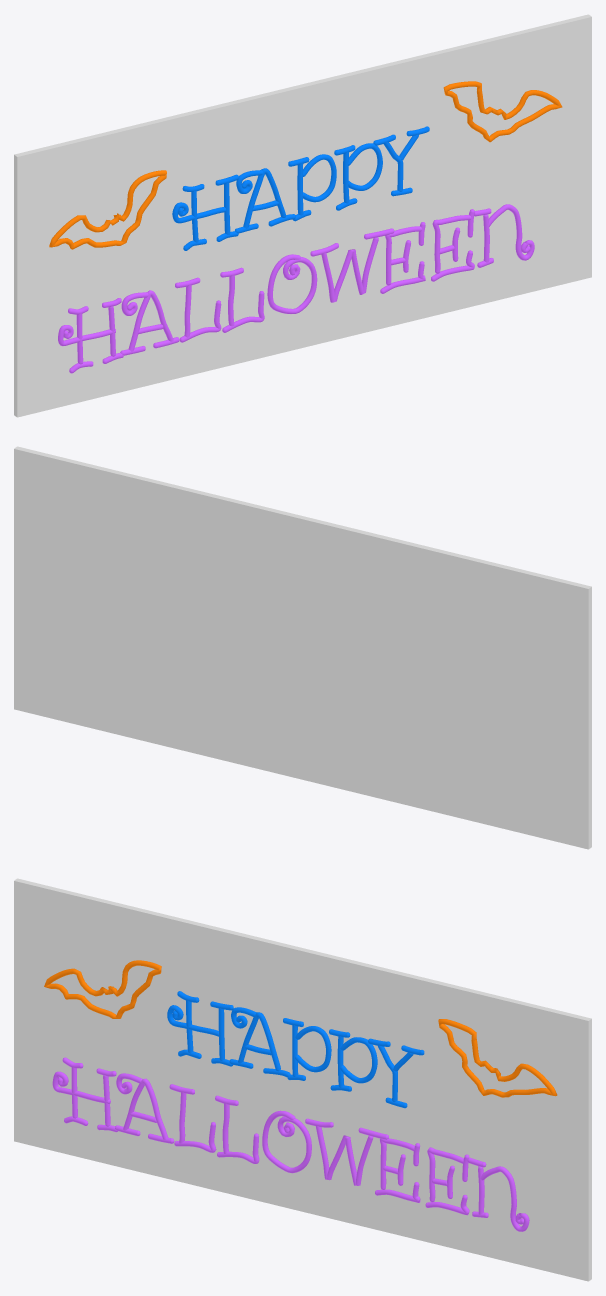
The model's file is my-neon-sign-optimized (88).glb.
3 views of the same model, one above another, from view 1: azimuth 30°, elevation 25°; view 2: azimuth 150°, elevation 25°; view 3: azimuth 330°, elevation 25° (orthographic).
Size of the model in its own units: 696 by 301 by 12.
